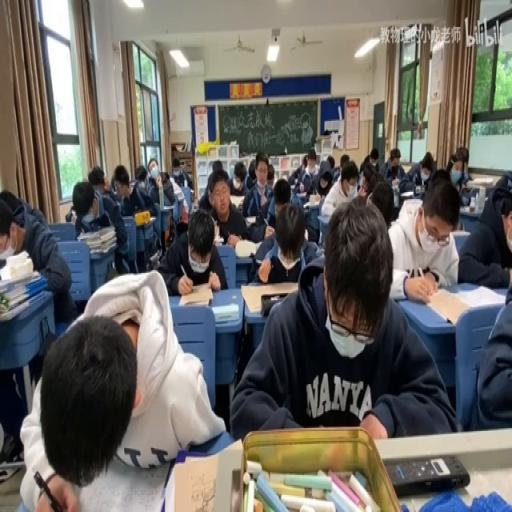calculator: (75, 450, 168, 509), (170, 452, 220, 512), (240, 280, 298, 313), (450, 284, 504, 310), (177, 283, 213, 304), (212, 302, 238, 322), (124, 212, 158, 226), (316, 212, 331, 242), (234, 238, 258, 256), (467, 175, 494, 186), (148, 249, 160, 266), (229, 194, 244, 206), (173, 186, 185, 200), (458, 203, 476, 212), (450, 229, 471, 236), (244, 214, 256, 224), (213, 233, 223, 245), (160, 203, 173, 212), (400, 190, 414, 198), (414, 184, 424, 194), (294, 190, 306, 198), (70, 208, 76, 224), (390, 178, 398, 186)
paper: (232, 199, 453, 440), (2, 186, 78, 445), (455, 174, 512, 288), (72, 176, 130, 279), (159, 206, 224, 294), (366, 178, 406, 249), (258, 175, 292, 237), (304, 155, 336, 215), (445, 148, 474, 206), (398, 151, 434, 196), (146, 156, 175, 208), (197, 164, 223, 209), (0, 189, 25, 225), (381, 145, 405, 181), (110, 162, 132, 201), (170, 155, 194, 189), (226, 158, 248, 195), (86, 165, 108, 193), (356, 152, 374, 185), (288, 155, 305, 186), (429, 166, 453, 186), (341, 168, 357, 195), (134, 165, 148, 186), (265, 164, 274, 188), (178, 196, 187, 219), (246, 158, 255, 180), (211, 158, 223, 173), (339, 154, 350, 169), (320, 176, 330, 192), (306, 148, 316, 163), (160, 169, 170, 182), (326, 155, 334, 169), (301, 154, 307, 169)
person: (384, 454, 470, 496)
